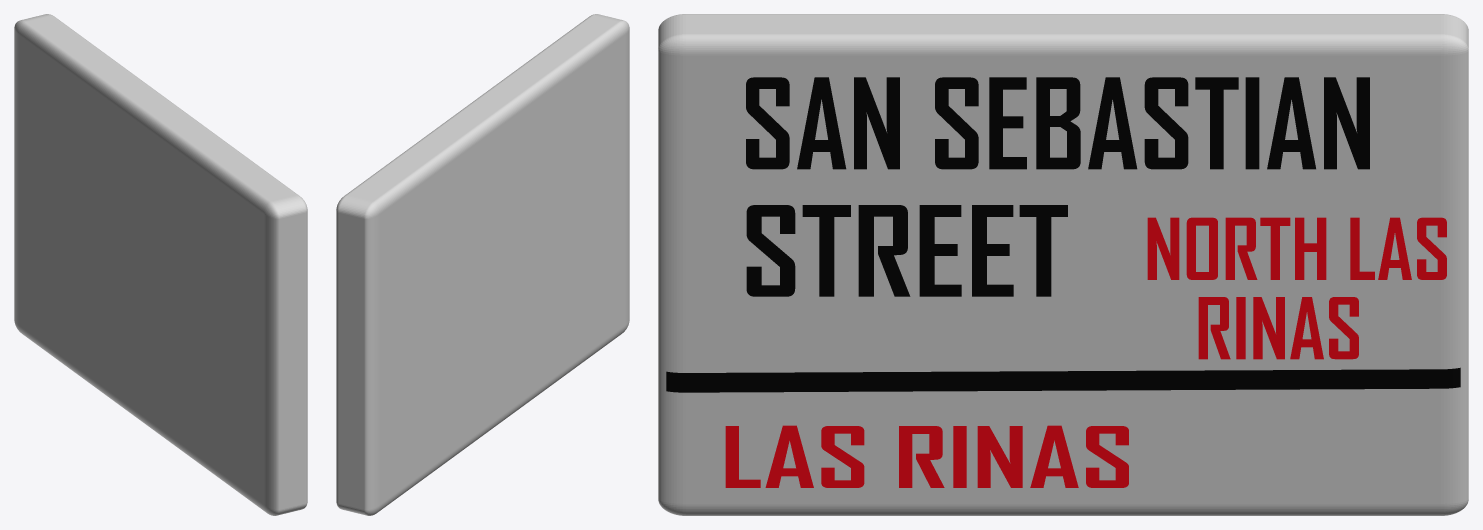
Rendered from uk_styled_street_sign_12.fbx.
3 views of the same model, side by side, from view 1: azimuth 30°, elevation 25°; view 2: azimuth 150°, elevation 25°; view 3: azimuth 270°, elevation 25° (orthographic). The views are drawn at different scales.
Visible parts, largest first — view 1: Cube; view 2: Cube; view 3: Cube, Text, Text.001, Text.002, Text.003, Text.004.
Boxes of the visible parts, x1=… form: Cube: x1=14, y1=14, x2=307, y2=515; Cube: x1=336, y1=14, x2=629, y2=515; Cube: x1=658, y1=14, x2=1468, y2=515; Text: x1=746, y1=77, x2=1369, y2=169; Text.001: x1=746, y1=205, x2=1067, y2=296; Text.002: x1=725, y1=425, x2=1128, y2=487; Text.003: x1=1147, y1=217, x2=1446, y2=279; Text.004: x1=1198, y1=297, x2=1358, y2=359.
Size of the model in its own units: 1.63 by 11.91 by 18.18.
